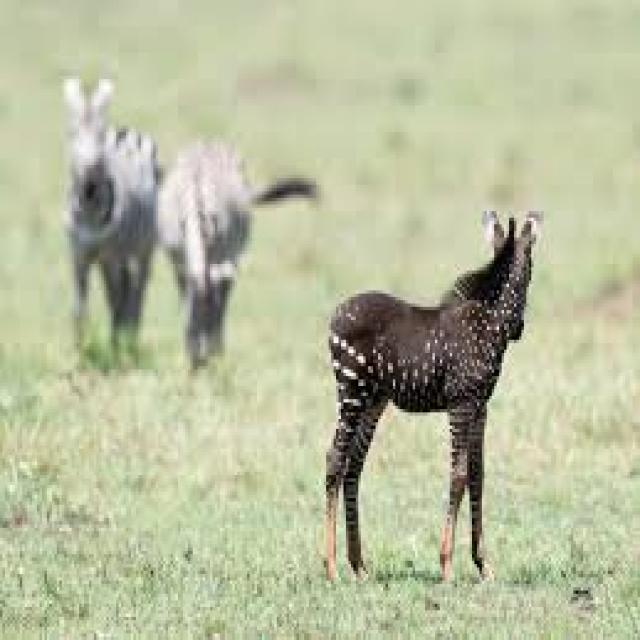Zebra: (322, 212, 541, 580)
